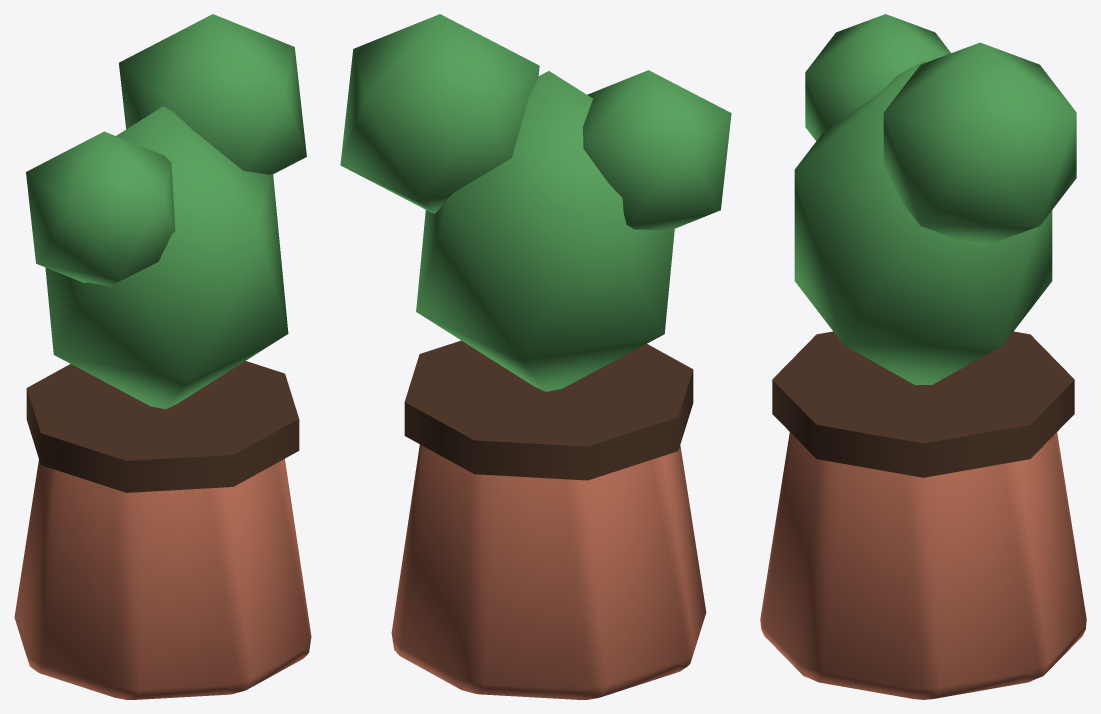
File: v_furn_plant.glb
3 renders of one model, left to right at view 1: azimuth 30°, elevation 25°; view 2: azimuth 150°, elevation 25°; view 3: azimuth 270°, elevation 25°, orthographic. The views are drawn at different scales.
Visible parts, largest first — view 1: FurnPlant; view 2: FurnPlant; view 3: FurnPlant.
Boxes of the visible parts, x1=… form: FurnPlant: x1=14, y1=14, x2=311, y2=699; FurnPlant: x1=340, y1=14, x2=731, y2=699; FurnPlant: x1=760, y1=14, x2=1086, y2=699.
Size of the model in its own units: 0.3968 by 0.74 by 0.3452.
